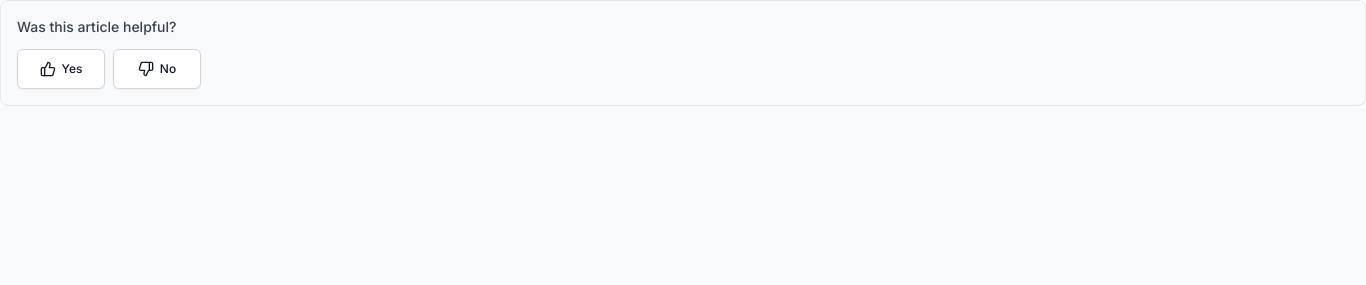
Test: KbArticleFeedbackBlock › Tell us more: textarea is editable and POSTs feedback comment
The image size is (1366, 285).
Later steps or results of the test are not shown.
Click the button with aria-label "yes, this article was helpful". click: (61, 69)
box: [17, 49, 105, 89]
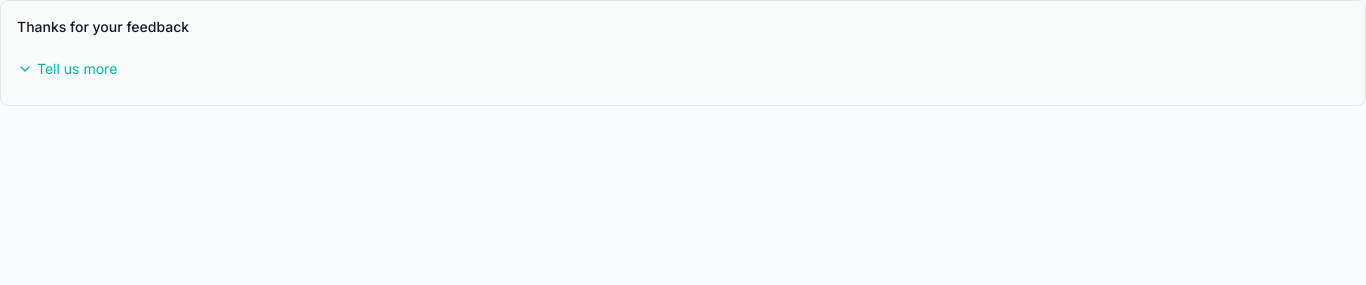
Expected: the message "Thanks for your feedback Tell us more" is shown, [0, 0, 1365, 106]
Click the button "Tell us more". click: (67, 69)
box: [15, 49, 119, 89]
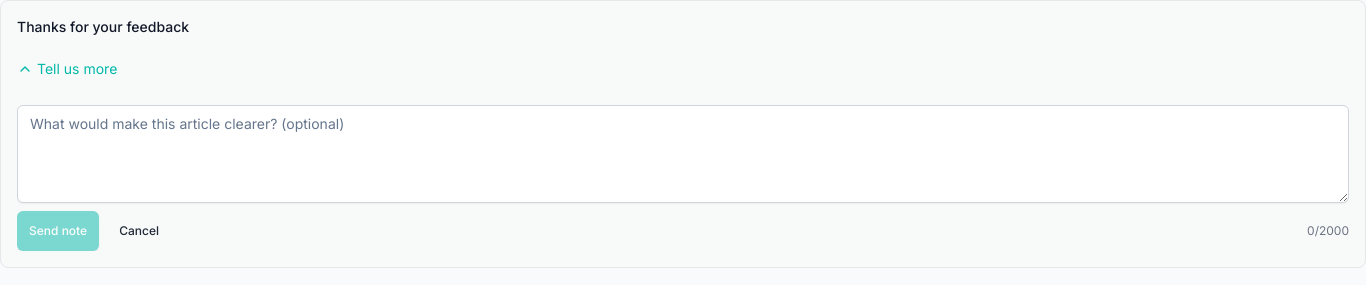
Expected: the text box named "optional written feedback about this article" is enabled, [17, 105, 1349, 203]
